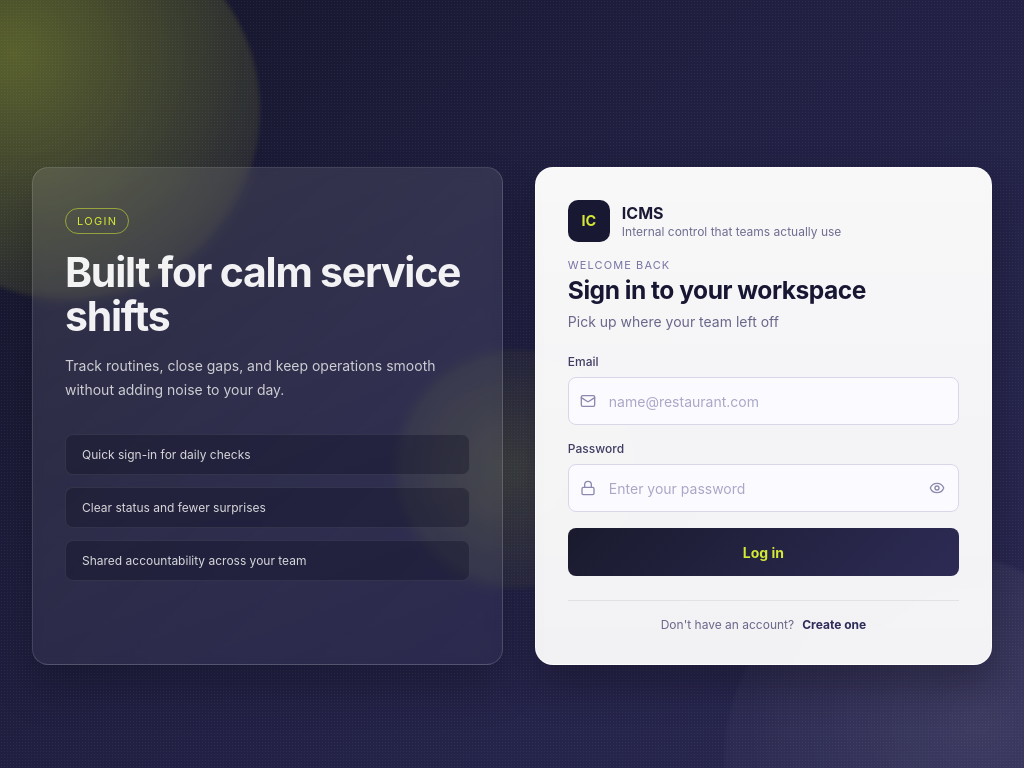
it: Login Page › shows both validation errors when submitting a completely empty form
The image size is (1024, 768).
Click the submit button. click: (764, 552)
box: [568,528,959,576]
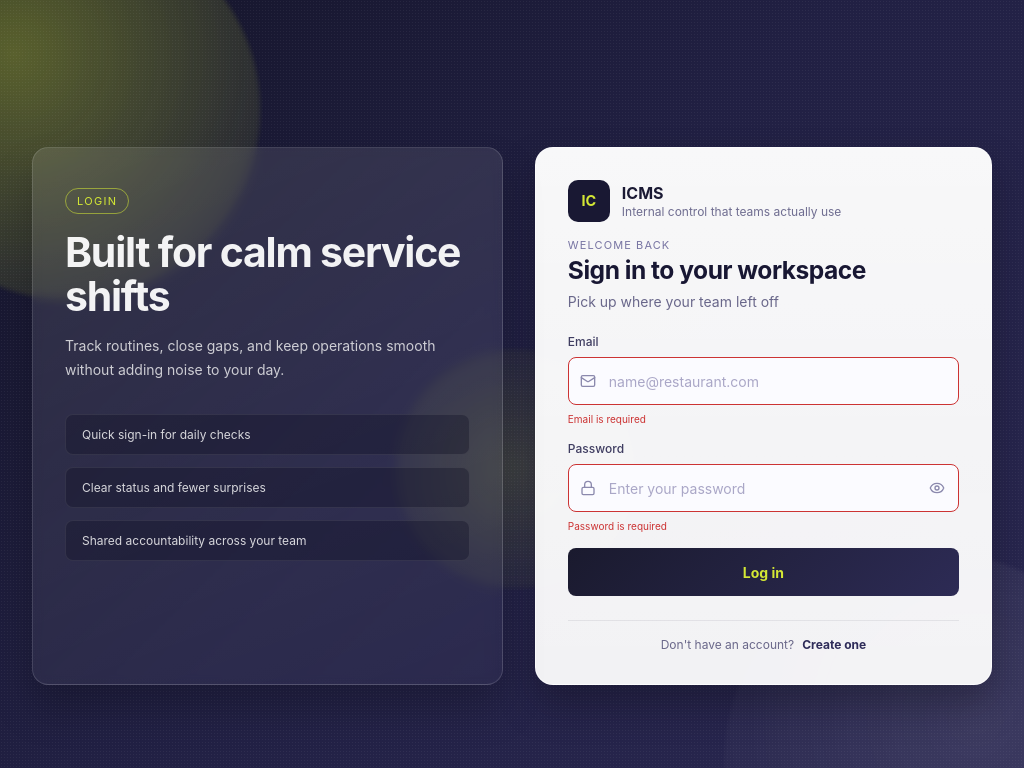
Expected: the text "Email is required" is shown, [568,413,646,425]
Expected: the text "Password is required" is shown, [568,520,667,532]
